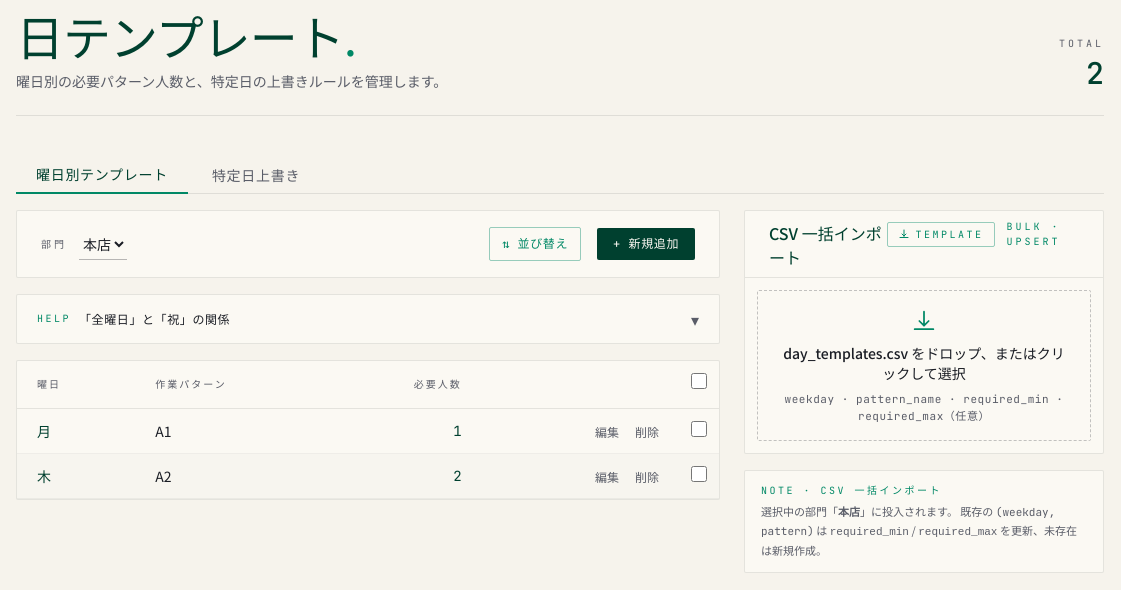
Test: DayTemplatesPage — initial render › switches to overrides tab and renders overrides
Expected: the text "月" is shown, 17,408 -> 143,454
Click the button "特定日上書き": click(256, 174) 192,156 -> 320,193
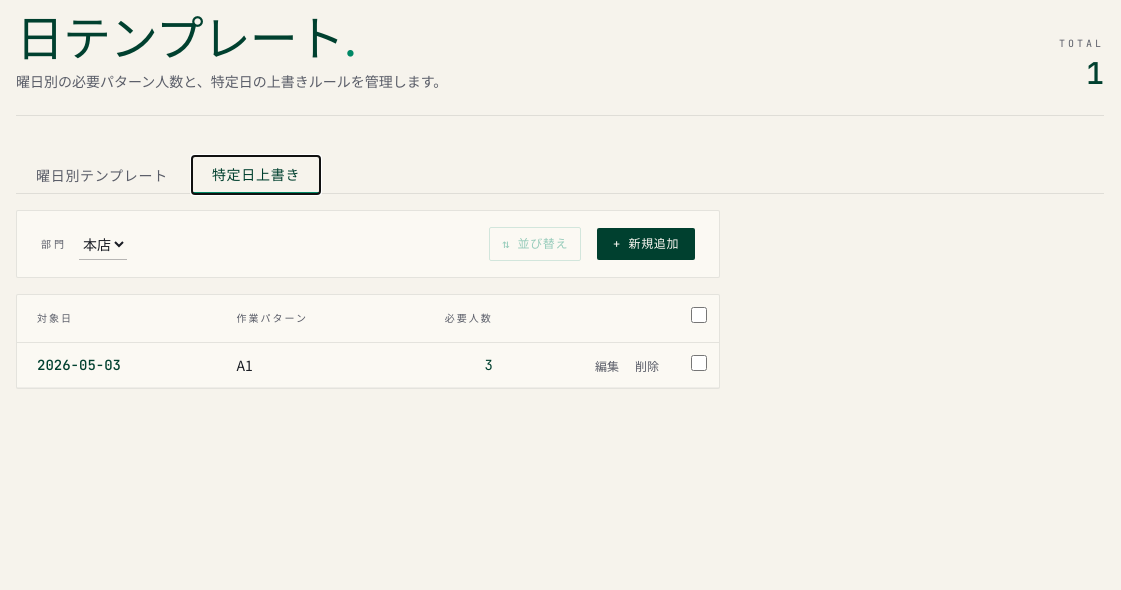
Expected: the text "2026-05-03" is shown, 17,342 -> 224,388
